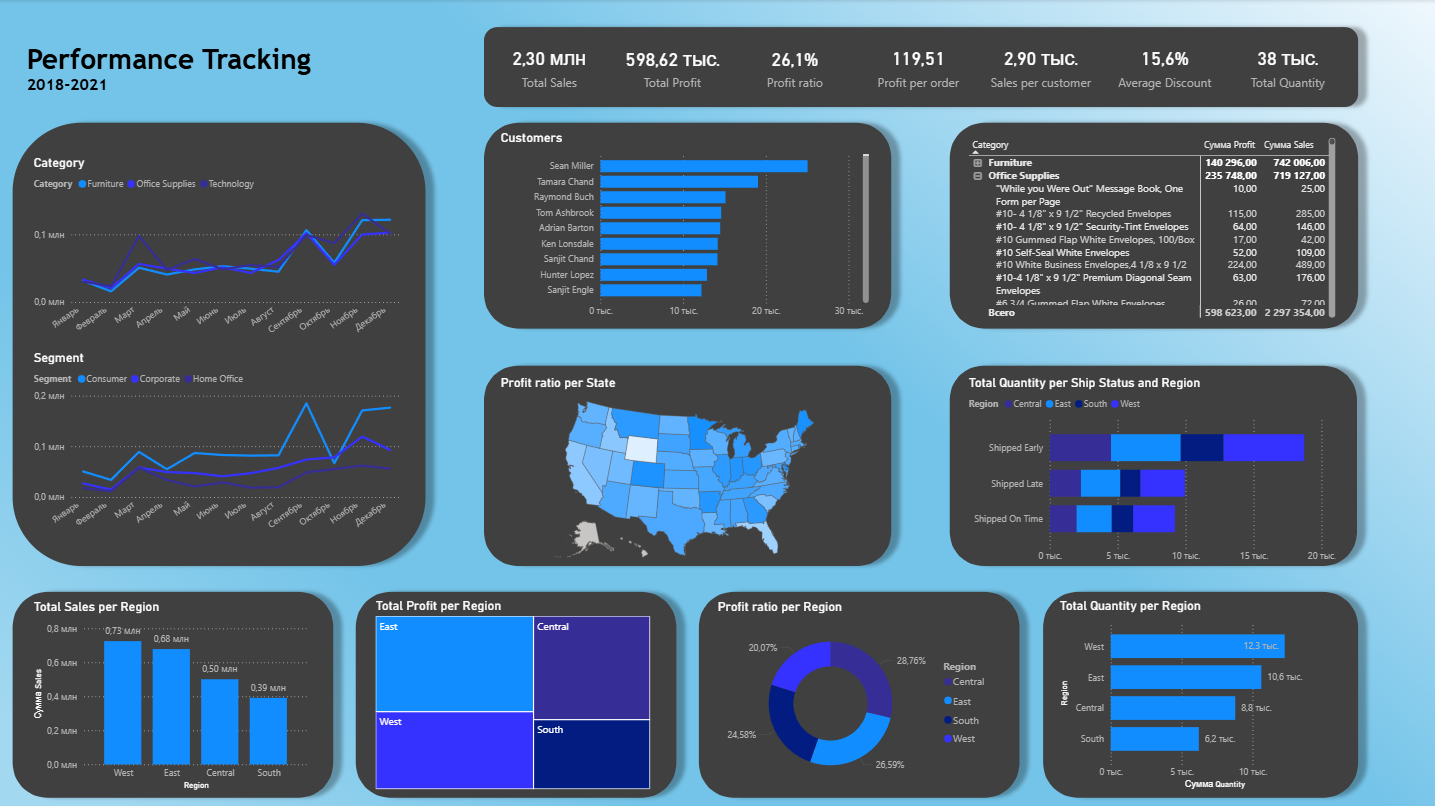

This screenshot's page, from the dashboard's own definition file:
{"tool":"powerbi","page":{"name":"Main","canvas":[1920,1080],"ordinal":0},"visuals":[{"type":"card","fields":{"Values":["Sample - Superstore_Orders.Profit"]},"box":[817,44.8,163.4,89.6],"z":0},{"type":"shapeMap","title":"Profit ratio per State","fields":{"Category":["Sample - Superstore_Orders.State"],"Value":["Sample - Superstore_Orders.Profit ratio"]},"box":[665.5,500.8,499.4,259.6],"z":1000},{"type":"pivotTable","fields":{"Values":["Sample - Superstore_Orders.Profit","Sample - Superstore_Orders.Sales"],"Rows":["Sample - Superstore_Orders.Category","Sample - Superstore_Orders.Product Name"]},"box":[1288.8,180.5,499.4,250.4],"z":2000},{"type":"card","fields":{"Values":["Sample - Superstore_Orders.Profit ratio"]},"box":[980.4,44.8,164.7,89.6],"z":3000},{"type":"card","fields":{"Values":["Sample - Superstore_Orders.Profit per order"]},"box":[1145.1,43.5,163.4,90.9],"z":4000},{"type":"card","fields":{"Values":["Sample - Superstore_Orders.Sales per customer"]},"box":[1308.6,43.5,164.7,90.9],"z":5000},{"type":"barChart","title":"Total Quantity per Ship Status and Region","fields":{"Category":["Sample - Superstore_Orders.Ship Status"],"Series":["Sample - Superstore_Orders.Region"],"Y":["Sample - Superstore_Orders.Quantity"]},"box":[1288.8,500.8,499.4,259.6],"z":6000},{"type":"card","fields":{"Values":["Sample - Superstore_Orders.Discount"]},"box":[1473.3,43.5,164.7,90.9],"z":7000},{"type":"card","fields":{"Values":["Sample - Superstore_Orders.Quantity"]},"box":[1638,43.5,164.7,90.9],"z":8000},{"type":"card","fields":{"Values":["Sample - Superstore_Orders.Sales"]},"box":[653.6,43.5,163.4,90.9],"z":9000},{"type":"lineChart","title":"Segment","fields":{"Category":["Sample - Superstore_Orders.Order Date.Изменение.Иерархия дат.Месяц"],"Y":["Sample - Superstore_Orders.Sales"],"Series":["Sample - Superstore_Orders.Segment"]},"box":[42.9,468.4,500,260],"z":10000},{"type":"lineChart","title":"Category","fields":{"Category":["Sample - Superstore_Orders.Order Date.Изменение.Иерархия дат.Месяц"],"Y":["Sample - Superstore_Orders.Sales"],"Series":["Sample - Superstore_Orders.Category"]},"box":[42.9,208.4,500,260],"z":11000},{"type":"clusteredColumnChart","title":"Total Sales per Region","fields":{"Category":["Sample - Superstore_Orders.Region"],"Y":["Sample - Superstore_Orders.Sales"]},"box":[42.2,799.9,375.6,259.6],"z":12000},{"type":"barChart","title":"Total Quantity per Region","fields":{"Category":["Sample - Superstore_Orders.Region"],"Y":["Sample - Superstore_Orders.Quantity"]},"box":[1410,798.6,375.6,259.6],"z":13000},{"type":"textbox","box":[32.9,52.7,520.5,80.4],"z":14000},{"type":"donutChart","title":"Profit ratio per Region","fields":{"Category":["Sample - Superstore_Orders.Region"],"Y":["Sample - Superstore_Orders.Profit ratio"]},"box":[954.1,799.9,375.6,259.6],"z":15000},{"type":"treemap","title":"Total Profit per Region","fields":{"Group":["Sample - Superstore_Orders.Region"],"Values":["Sample - Superstore_Orders.Profit"]},"box":[498.1,798.6,375.6,259.6],"z":16000},{"type":"barChart","title":"Customers","fields":{"Category":["Sample - Superstore_Orders.Customer Name"],"Y":["Sample - Superstore_Orders.Sales"]},"box":[665.5,175.3,500.8,259.6],"z":17000}]}

Visuals, with their boxes in screenshot pixels (x1, y1, x2, y2), scaled from the page's 1920x1080 canvas onto the 1435x806 screenshot:
card - Sample - Superstore_Orders.Profit: pyautogui.locateOnScreen(611, 33, 733, 100)
"Profit ratio per State" shapeMap: pyautogui.locateOnScreen(497, 374, 871, 567)
pivotTable - Sample - Superstore_Orders.Profit x Sample - Superstore_Orders.Sales: pyautogui.locateOnScreen(963, 135, 1336, 322)
card - Sample - Superstore_Orders.Profit ratio: pyautogui.locateOnScreen(733, 33, 856, 100)
card - Sample - Superstore_Orders.Profit per order: pyautogui.locateOnScreen(856, 32, 978, 100)
card - Sample - Superstore_Orders.Sales per customer: pyautogui.locateOnScreen(978, 32, 1101, 100)
"Total Quantity per Ship Status and Region" barChart: pyautogui.locateOnScreen(963, 374, 1336, 567)
card - Sample - Superstore_Orders.Discount: pyautogui.locateOnScreen(1101, 32, 1224, 100)
card - Sample - Superstore_Orders.Quantity: pyautogui.locateOnScreen(1224, 32, 1347, 100)
card - Sample - Superstore_Orders.Sales: pyautogui.locateOnScreen(488, 32, 611, 100)
"Segment" lineChart: pyautogui.locateOnScreen(32, 350, 406, 544)
"Category" lineChart: pyautogui.locateOnScreen(32, 156, 406, 350)
"Total Sales per Region" clusteredColumnChart: pyautogui.locateOnScreen(32, 597, 312, 791)
"Total Quantity per Region" barChart: pyautogui.locateOnScreen(1054, 596, 1335, 790)
textbox: pyautogui.locateOnScreen(25, 39, 414, 99)
"Profit ratio per Region" donutChart: pyautogui.locateOnScreen(713, 597, 994, 791)
"Total Profit per Region" treemap: pyautogui.locateOnScreen(372, 596, 653, 790)
"Customers" barChart: pyautogui.locateOnScreen(497, 131, 872, 325)
